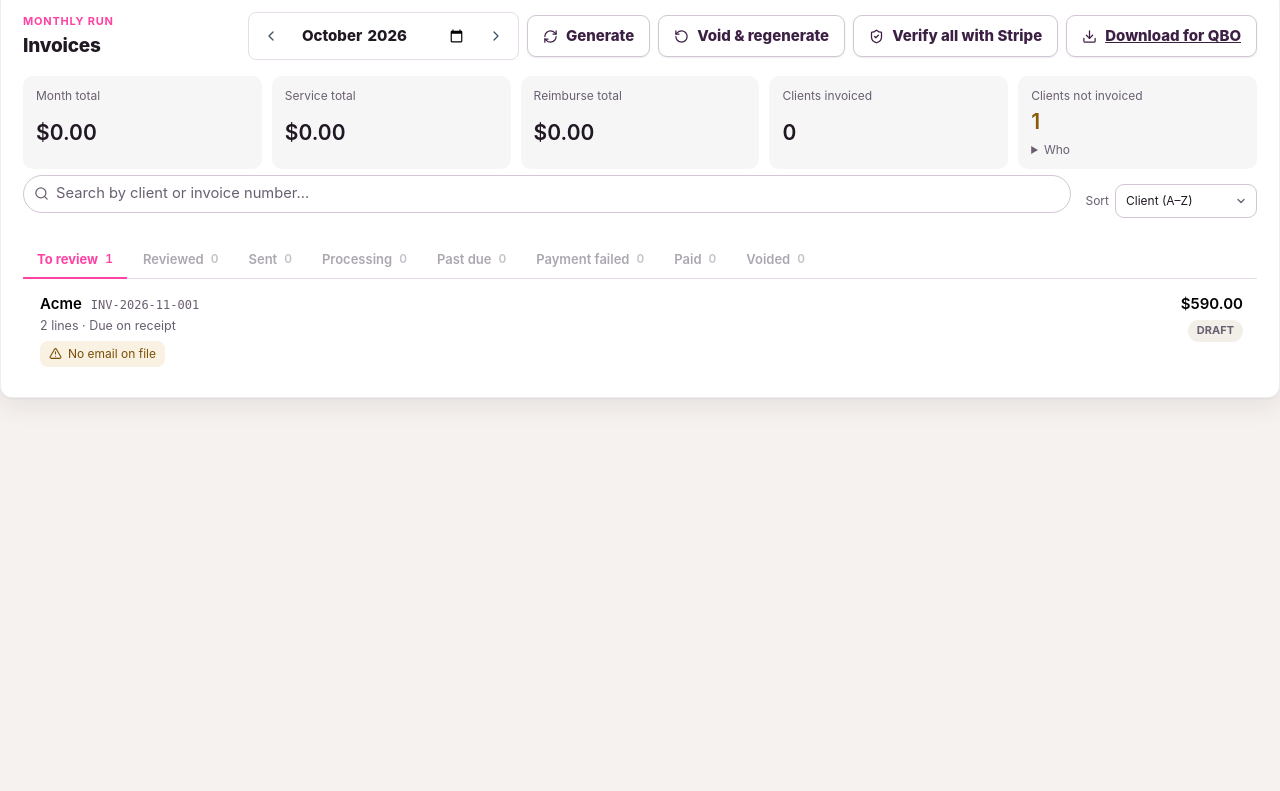
Test case: InvoiceMonthRun — confirming the covered dates › blocks Mark reviewed, and the button says what is missing
The image size is (1280, 791).
What coordinates should you click on to do the following:
click the text "INV-2026-11-001"
I would click on:
 (145, 306)
Its box is [91, 297, 199, 315].
(page scrolled)
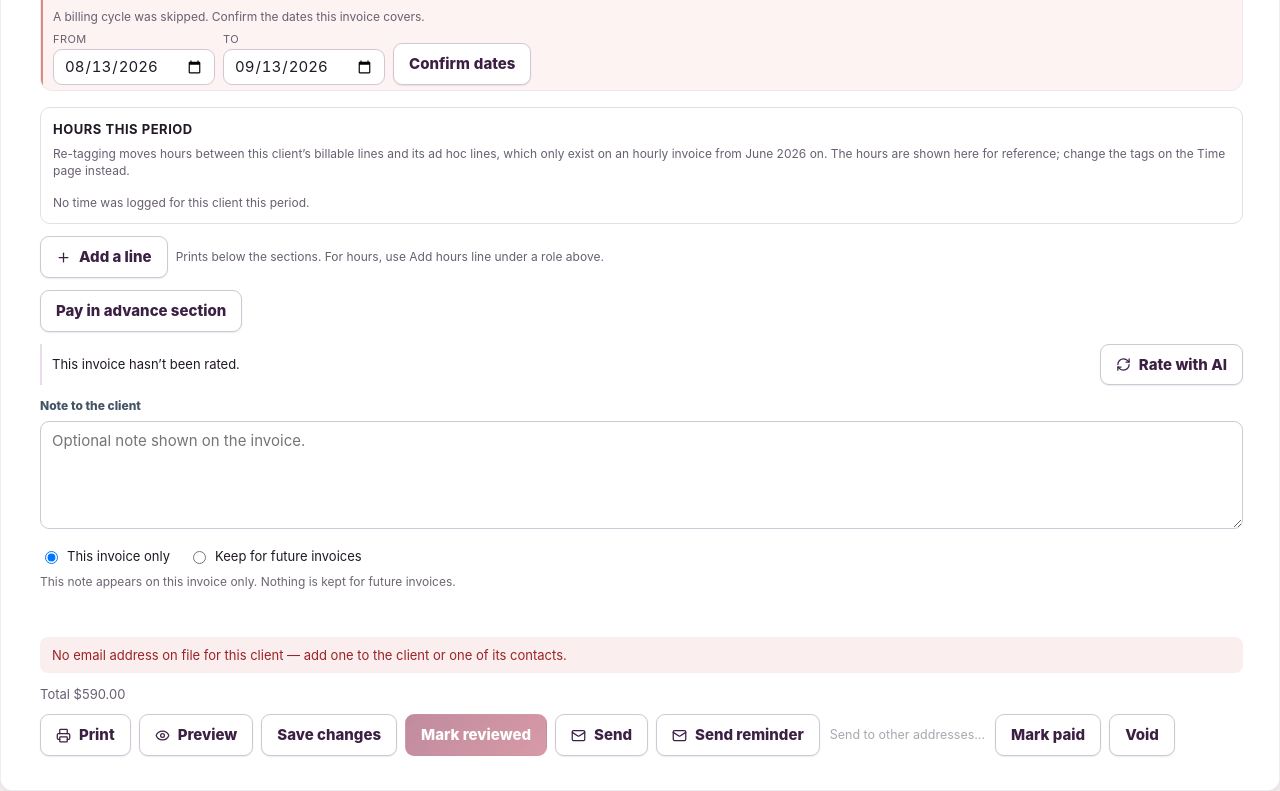
expect the button "Mark reviewed" is disabled: met, box [405, 714, 547, 756]
